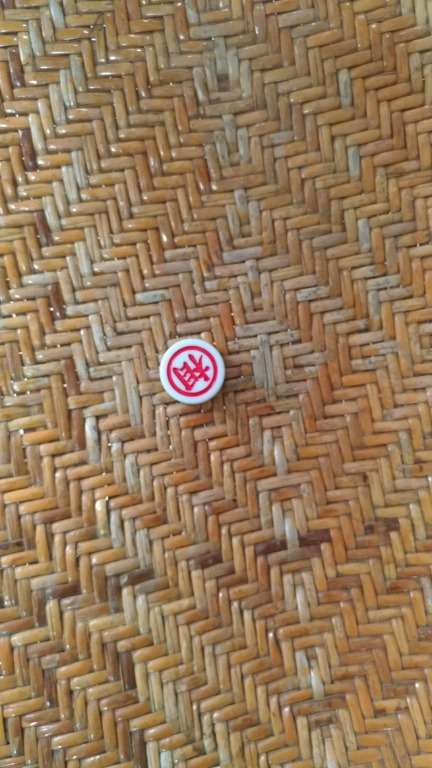r-elephant: (148, 331, 243, 418)
